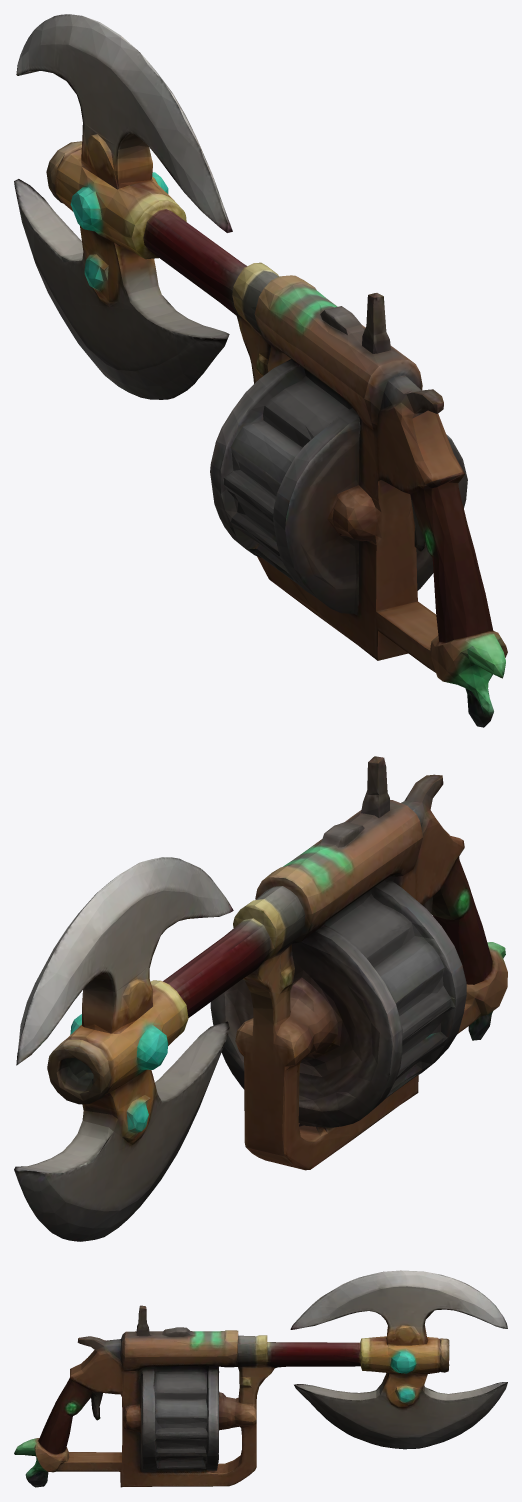
The model's file is guanshi.glb.
3 renders of one model, top to bottom at view 1: azimuth 30°, elevation 25°; view 2: azimuth 150°, elevation 25°; view 3: azimuth 270°, elevation 25°, orthographic. The views are drawn at different scales.
Visible parts, largest first — view 1: geometry_0; view 2: geometry_0; view 3: geometry_0.
Part boxes in pixels (x1,y1,x2,y2): geometry_0: (14,14,507,727); geometry_0: (14,756,507,1241); geometry_0: (14,1270,507,1487).
Size of the model in its own units: 0.2154 by 0.4802 by 0.992.
Materials: 1 (1 with a texture image).
